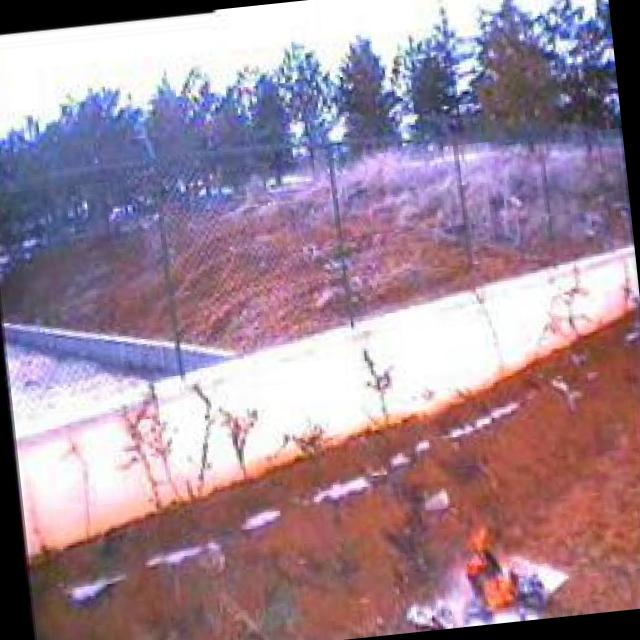Fire: (450, 518, 542, 615)
